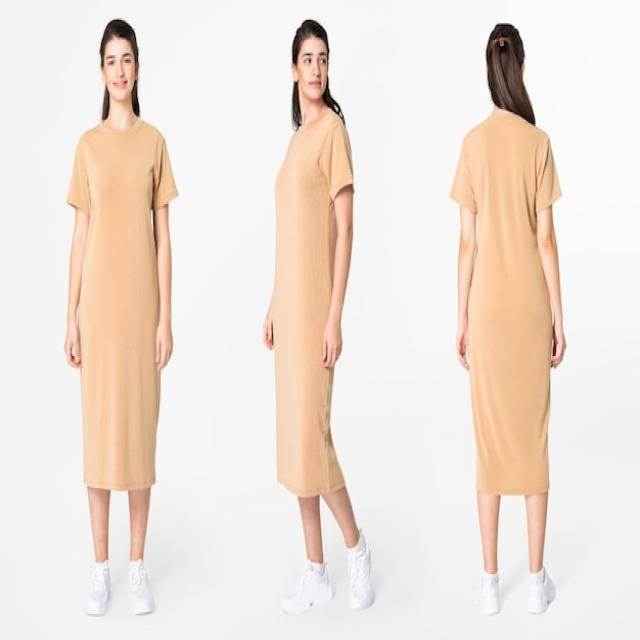Person: (449, 21, 567, 618), (63, 18, 178, 616), (264, 19, 374, 617)
